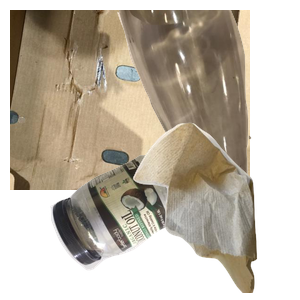cardboard: (10, 10, 250, 190)
glass: (115, 10, 300, 190)
plastic: (48, 152, 228, 300)
trash: (131, 120, 300, 300)
